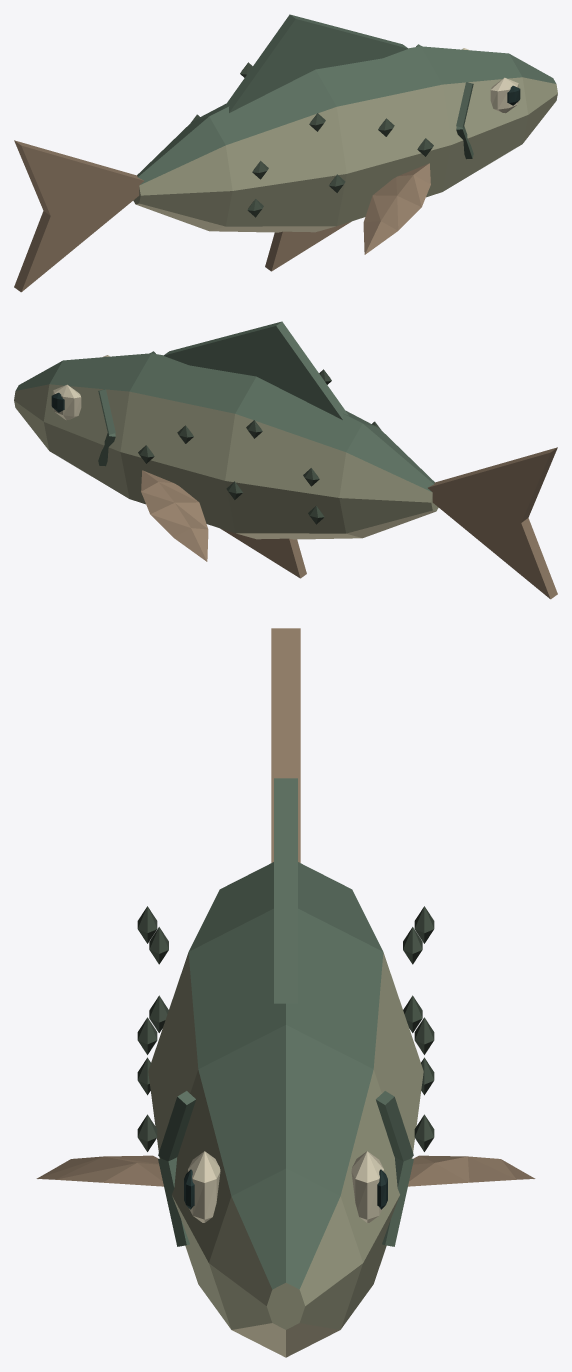
The model's file is fish_spottrout.glb.
The picture shows the model from 3 angles, top to bottom: view 1: azimuth 30°, elevation 25°; view 2: azimuth 150°, elevation 25°; view 3: azimuth 270°, elevation 25°; orthographic projection. The views are drawn at different scales.
Parts seen in each view (by area): view 1: fish_spottrout; view 2: fish_spottrout; view 3: fish_spottrout.
Boxes of the visible parts, <box> form: fish_spottrout: <box>14,14,557,292</box>; fish_spottrout: <box>14,321,557,599</box>; fish_spottrout: <box>36,628,535,1357</box>.
Bounding box in the file's own units: 0.763 × 0.3358 × 0.308.
